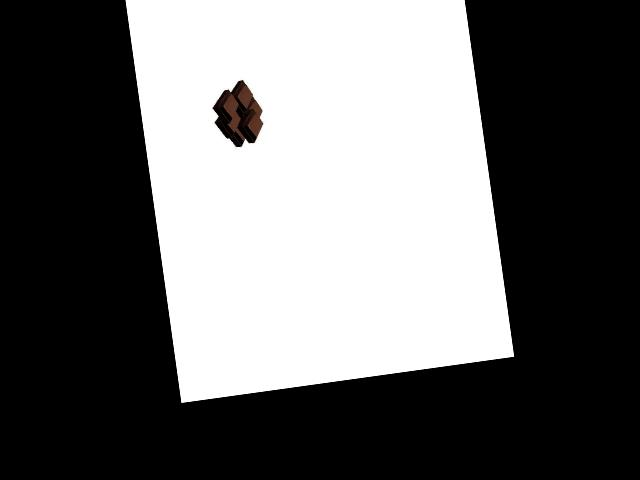chocolate: (211, 78, 269, 151)
